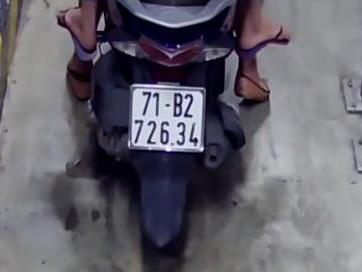num_plate: (129, 82, 206, 154)
